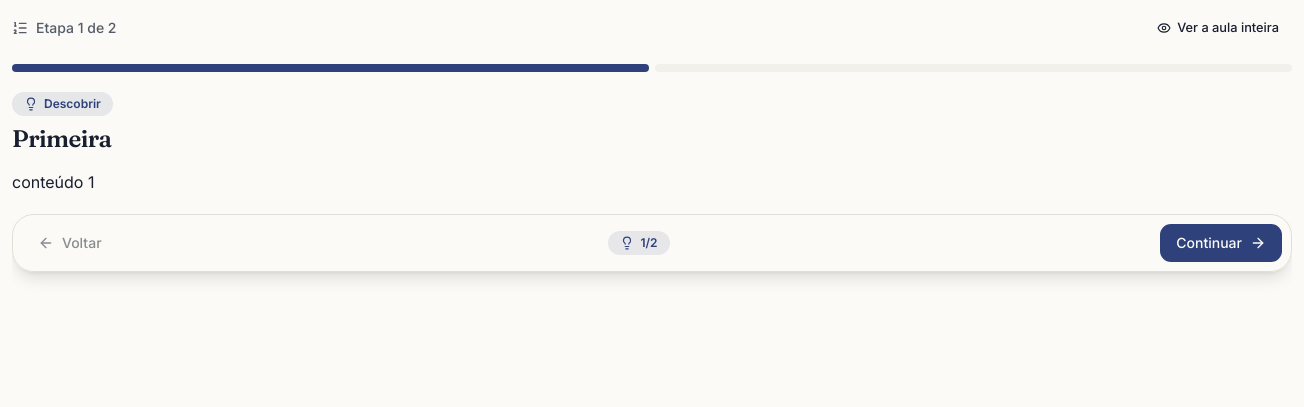
Test: LessonPlayer › mostra uma etapa por vez, avança e permite ver a aula inteira
Expected: the text "Etapa 1 de 2" is shown, [12,18,116,38]
Expected: the text "conteúdo 2" is not shown
Click the button "Continuar" at (1221,243), box [1159,223,1283,263]
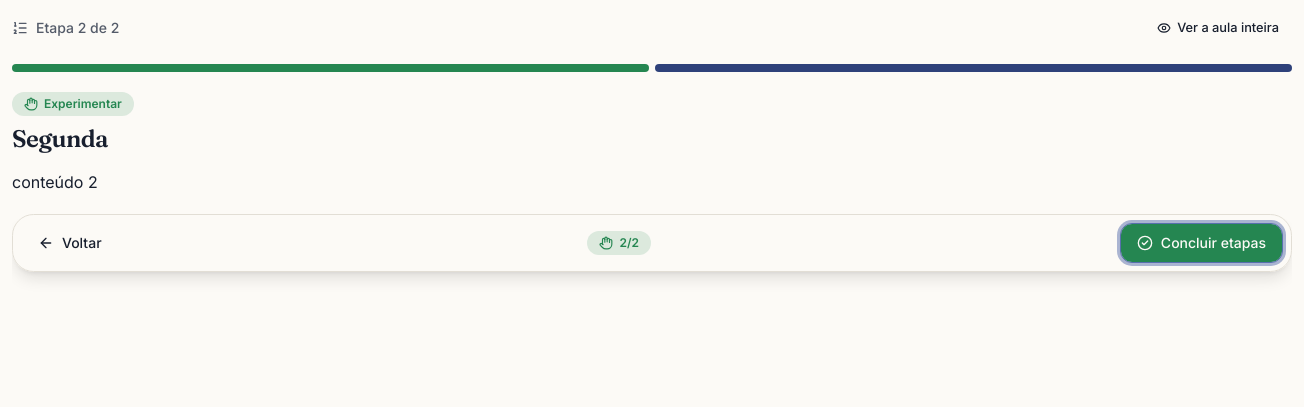
Result: the text "conteúdo 2" is shown at [12,172,98,192]
Click the button "Concluir etapas" at (1201,243), box [1120,223,1283,263]
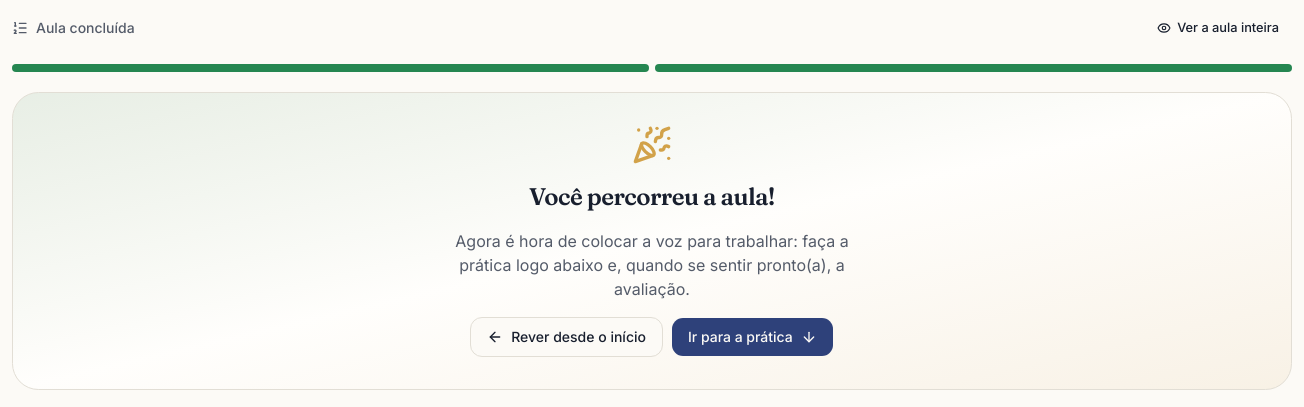
Result: the heading "Você percorreu a aula!" is shown at [529,182,775,211]
Click the button "Ver a aula inteira" at (1218,28), box [1144,12,1292,44]
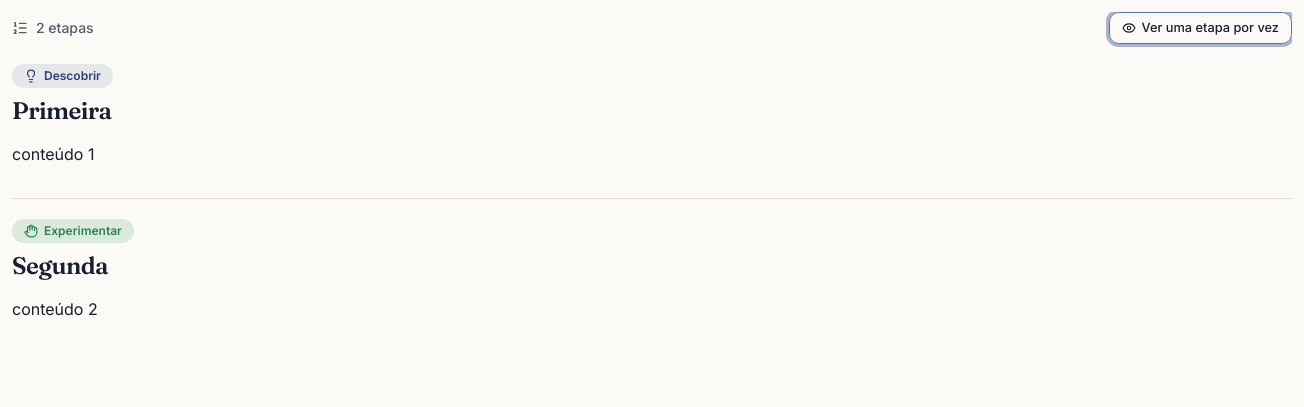
Result: the text "conteúdo 1" is shown at [12,144,94,164]
Result: the text "conteúdo 2" is shown at [12,299,98,319]
